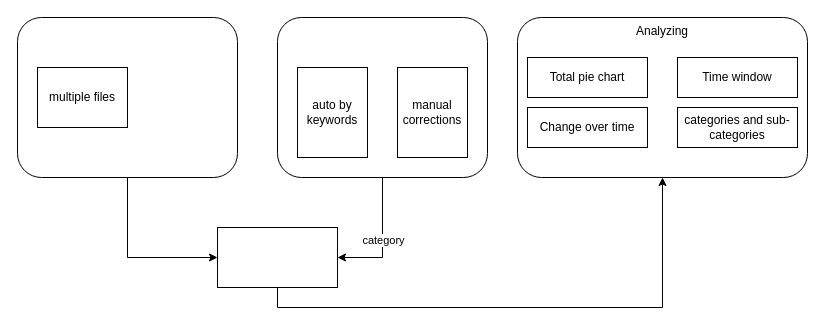
The diagram is 825 pixels wide and 333 high, and some of its shapes have lost their labels. The shapes that lost their labels are listed below. From the top down, each one's box as (x1, y1, x2, y2) in pixels, then its label:
(16, 16, 238, 178): Importing
(276, 16, 488, 178): Categorizing
(216, 226, 338, 288): single table
